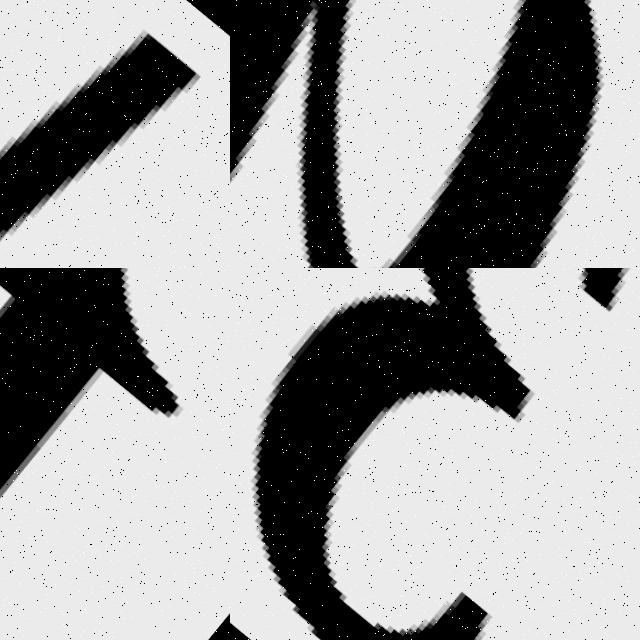3: (230, 268, 640, 640)
A: (230, 0, 640, 268)
T: (0, 268, 230, 640)
Y: (0, 0, 230, 268)
